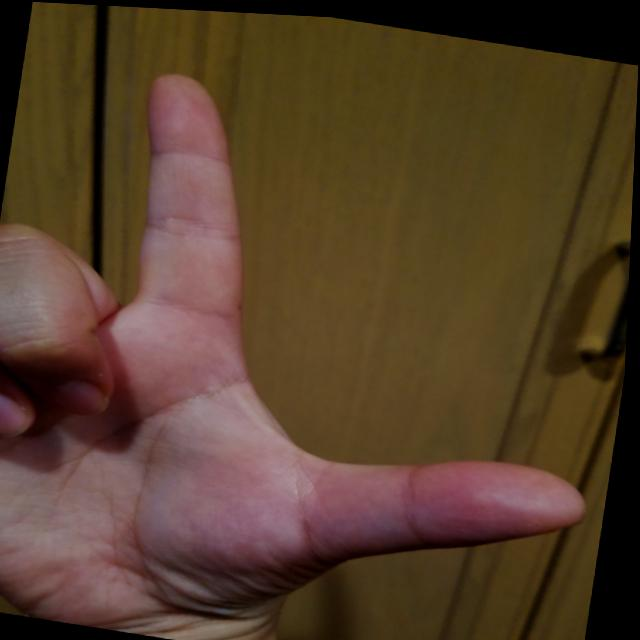L: (0, 40, 638, 639)
